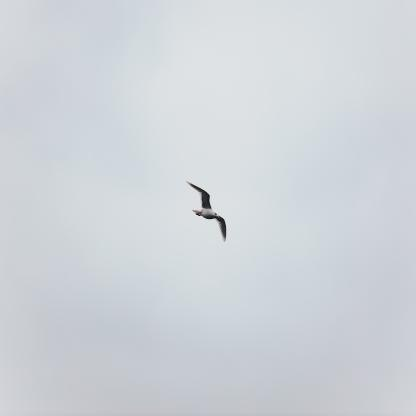bird: (186, 180, 227, 242)
